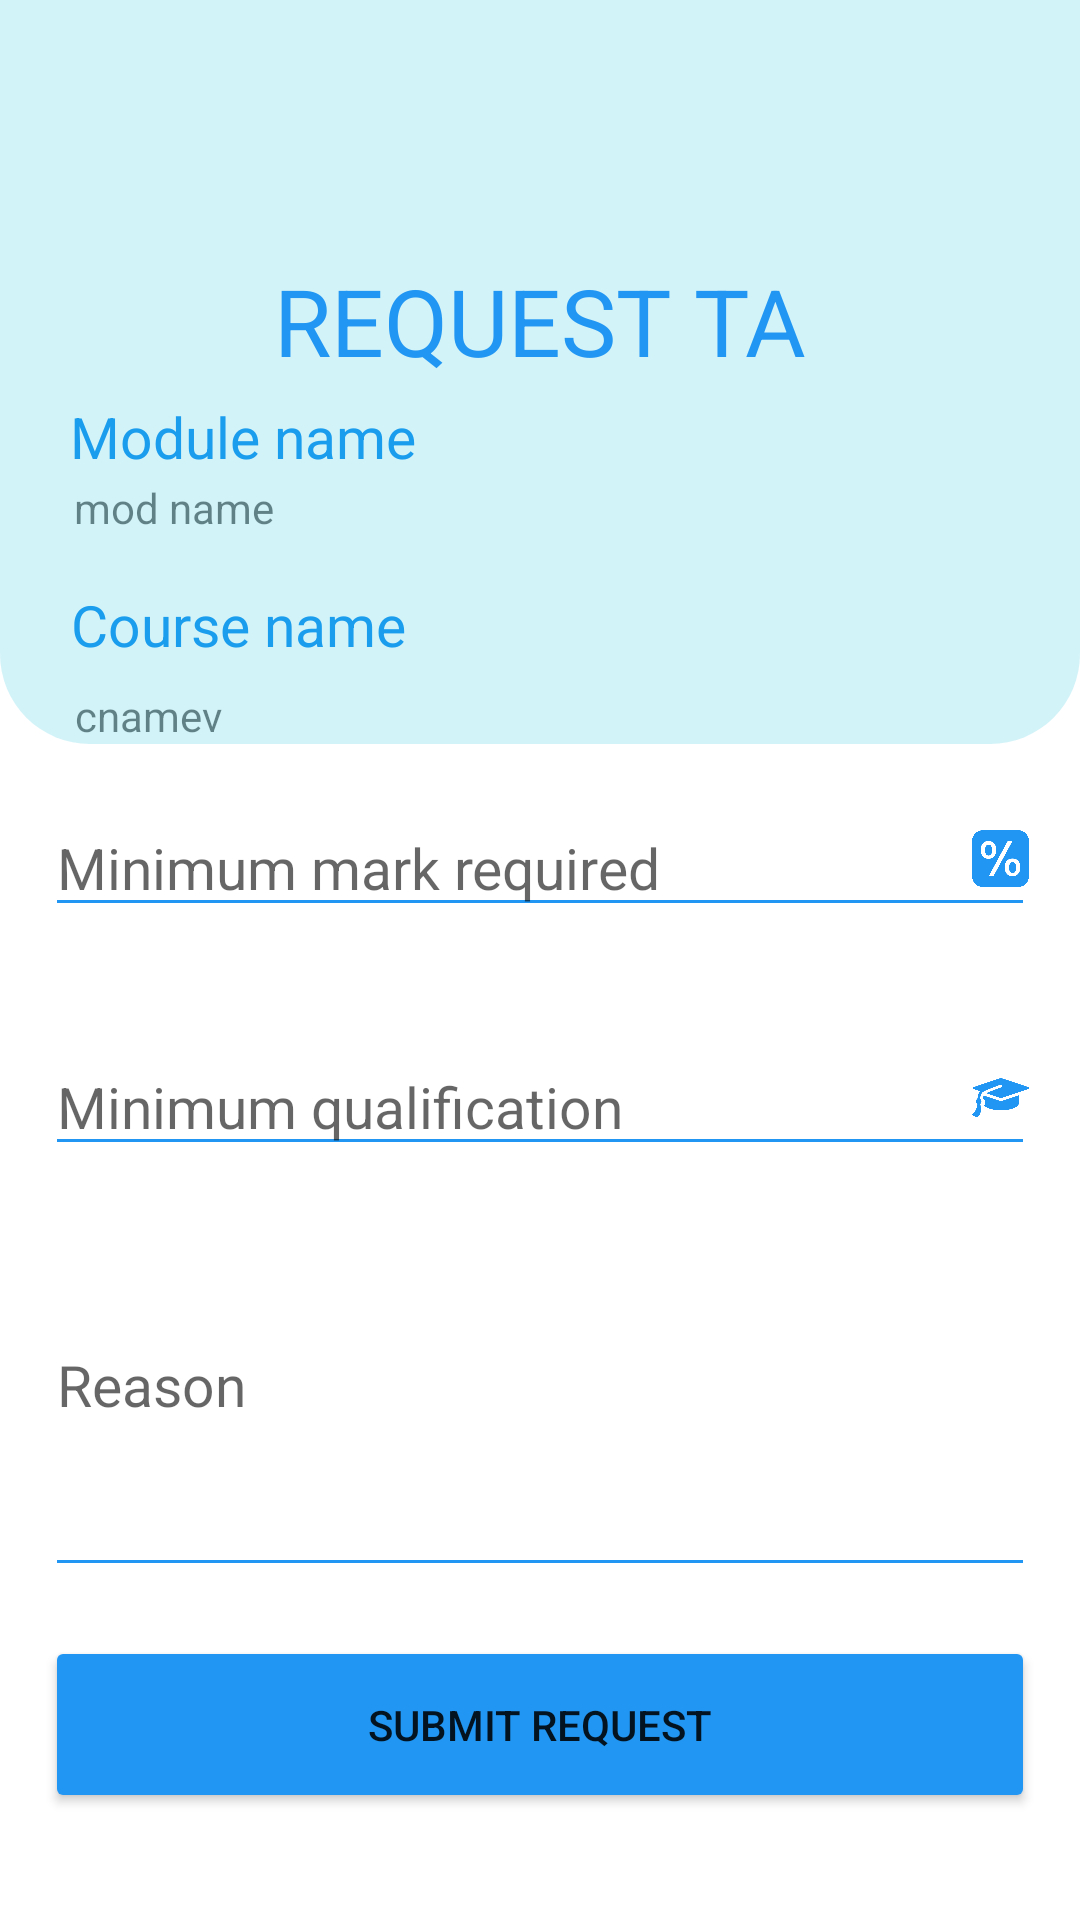

Locate icon controls on the screen. Image size 1080*1920, boxes as (x1, y1, x2, y2).
graduation: (972, 1078, 1029, 1117)
percentage: (972, 830, 1029, 887)
